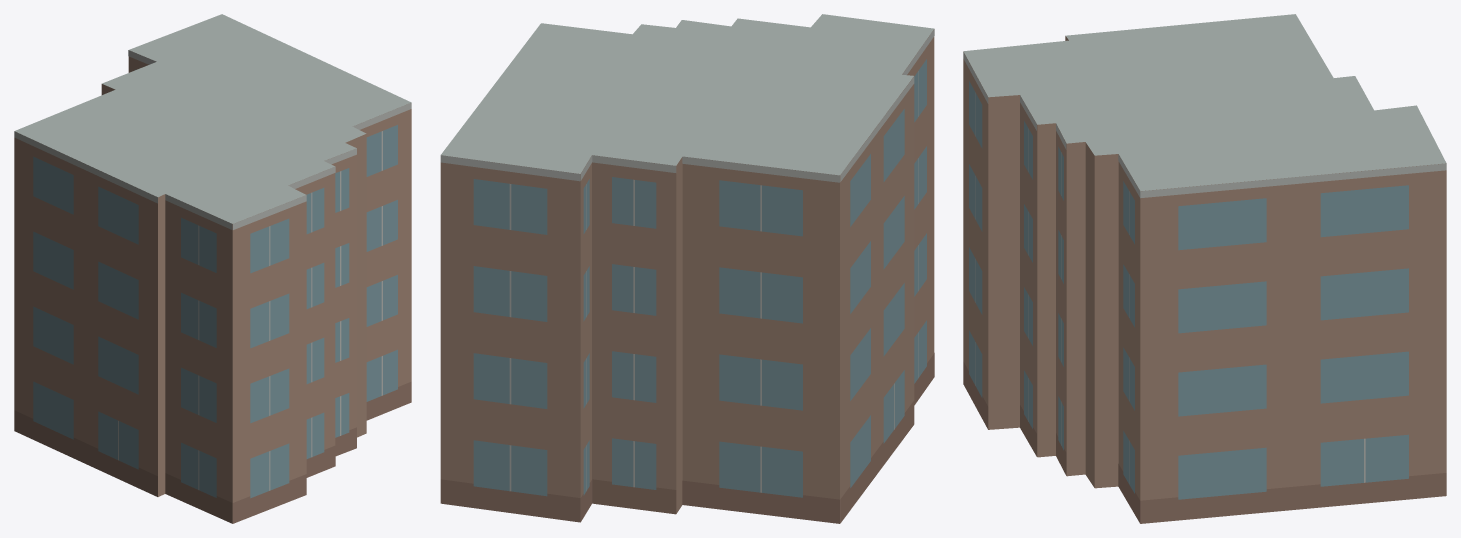
File: survey-upis-32496913.glb
3 renders of one model, left to right at view 1: azimuth 30°, elevation 25°; view 2: azimuth 150°, elevation 25°; view 3: azimuth 270°, elevation 25°, orthographic. The views are drawn at different scales.
Visible parts, largest first — view 1: survey-upis-32496913.tmp; view 2: survey-upis-32496913.tmp; view 3: survey-upis-32496913.tmp.
Part boxes in pixels (x1,y1,x2,y2): survey-upis-32496913.tmp: (14, 14, 411, 523); survey-upis-32496913.tmp: (440, 14, 934, 523); survey-upis-32496913.tmp: (963, 14, 1446, 523).
Size of the model in its own units: 13.26 by 11.6 by 15.29.
